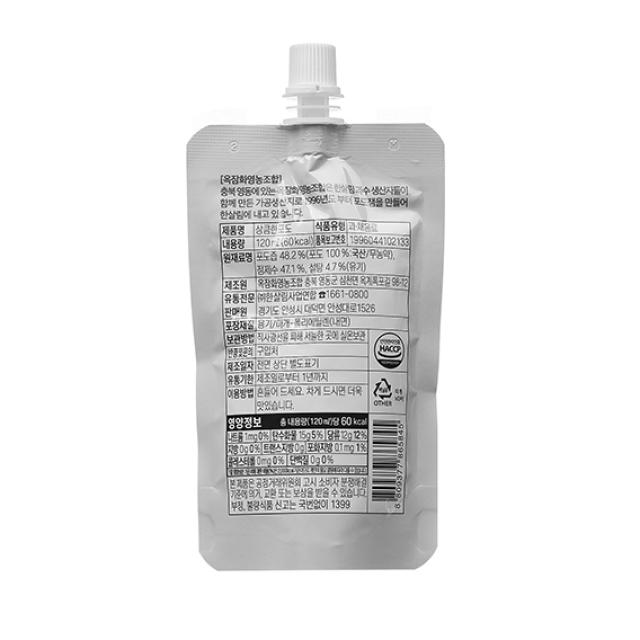Nutrition Label: (213, 408, 390, 486)
